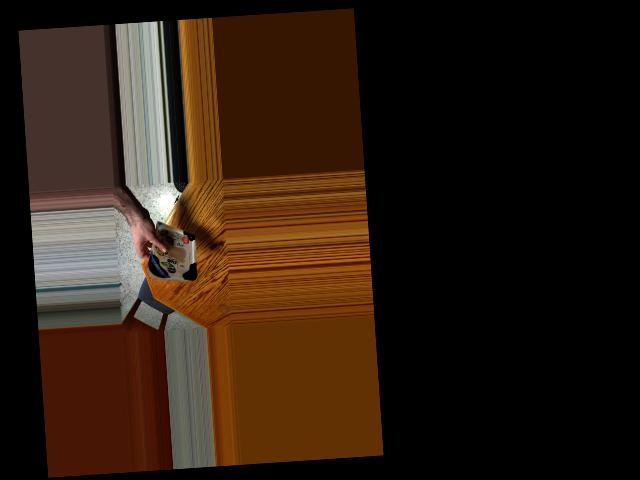cheese: (153, 223, 193, 284)
